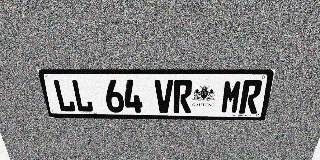4: (122, 80, 143, 113)
6: (103, 80, 125, 112)
L: (52, 79, 76, 112), (71, 79, 94, 112)
M: (220, 80, 243, 113)
R: (239, 80, 263, 114), (173, 80, 193, 113)
V: (155, 80, 173, 113)
